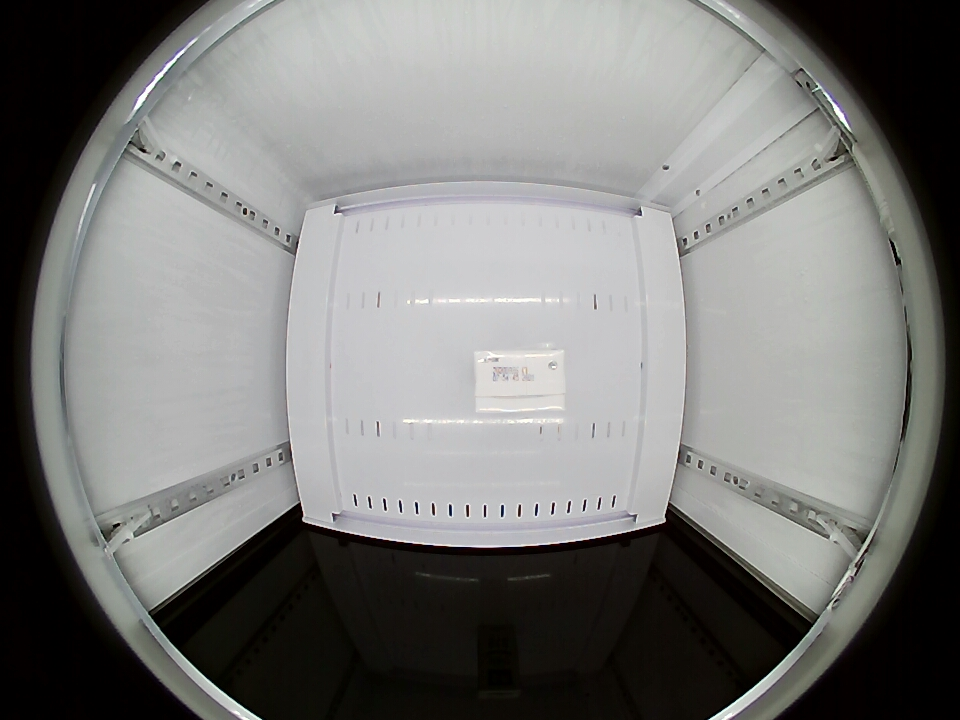jindian: (474, 347, 567, 413)
